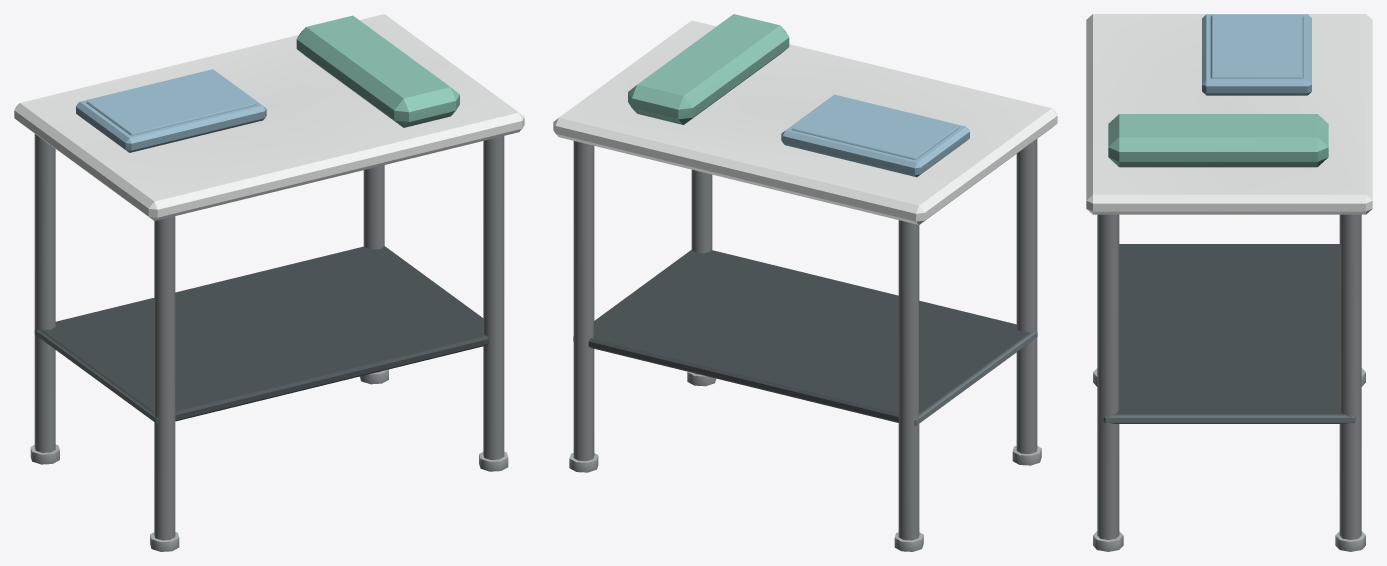
Rendered from procedure_table.glb.
3 renders of one model, left to right at view 1: azimuth 30°, elevation 25°; view 2: azimuth 150°, elevation 25°; view 3: azimuth 270°, elevation 25°, orthographic. The views are drawn at different scales.
Parts seen in each view (by area): view 1: shelf, top, legs, tray, armrest; view 2: shelf, top, legs, tray, armrest; view 3: shelf, top, legs, armrest, tray.
Boxes of the visible parts, x1,y1,x2,y2 form: shelf: (34,246,488,424); top: (14,14,524,220); legs: (30,134,508,551); tray: (76,69,266,152); armrest: (296,15,459,127); shelf: (573,250,1037,425); top: (553,20,1057,224); legs: (569,139,1041,551); tray: (781,94,969,177); armrest: (628,14,789,124); shelf: (1103,244,1355,423); top: (1086,14,1372,214); legs: (1093,214,1365,551); armrest: (1108,114,1328,167); tray: (1202,14,1311,95).
Bounding box in the file's own units: 0.8 × 0.78 × 0.52.
